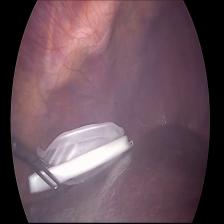Grasper: (19, 139, 61, 195)
Specimen Bag: (38, 116, 138, 184)
